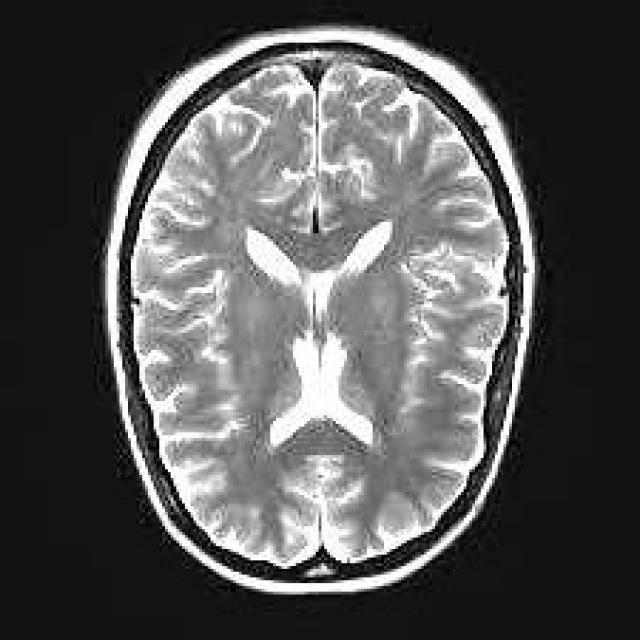notumor: (100, 28, 538, 594)
